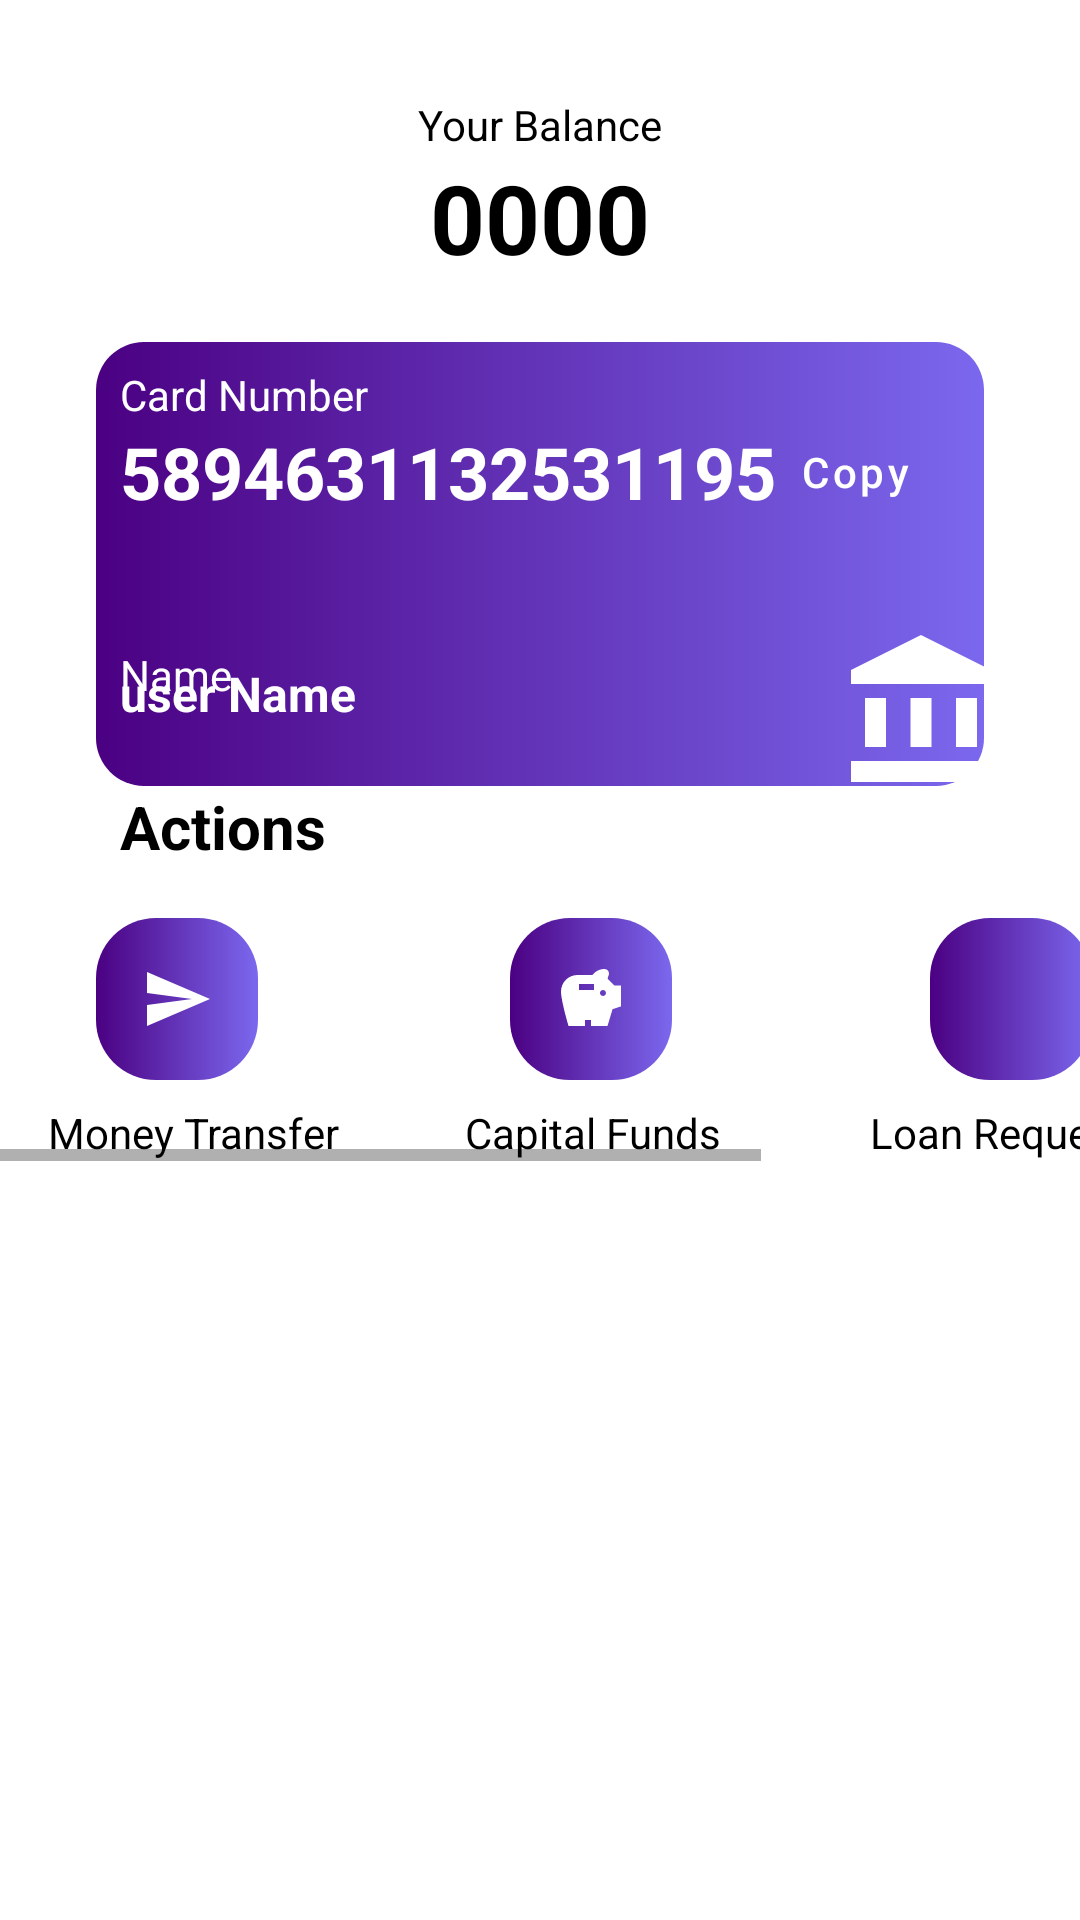

Screen size 1080*1920. Icon name, then its center in pixels as point (x, y):
account balance: point (920, 712)
